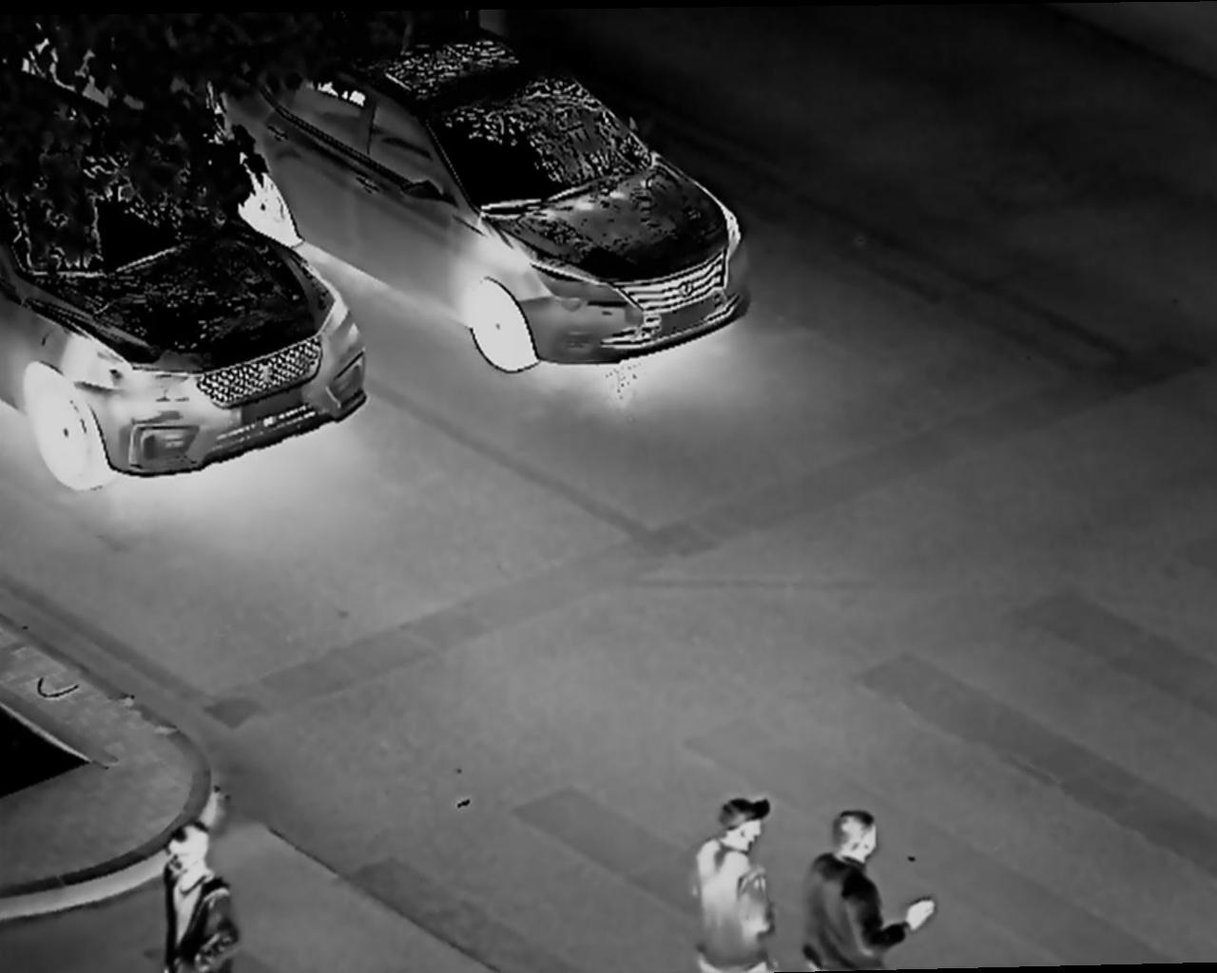person: (796, 803, 944, 973), (688, 792, 788, 973), (158, 816, 241, 973)
